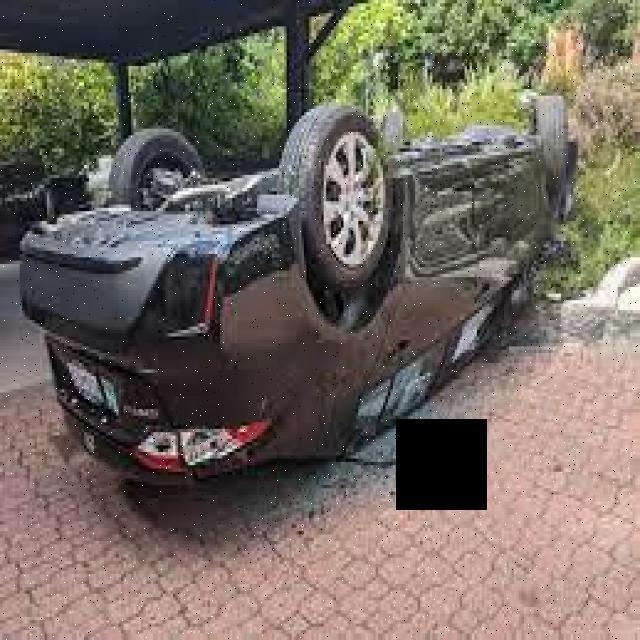single accident: (19, 97, 572, 530)
